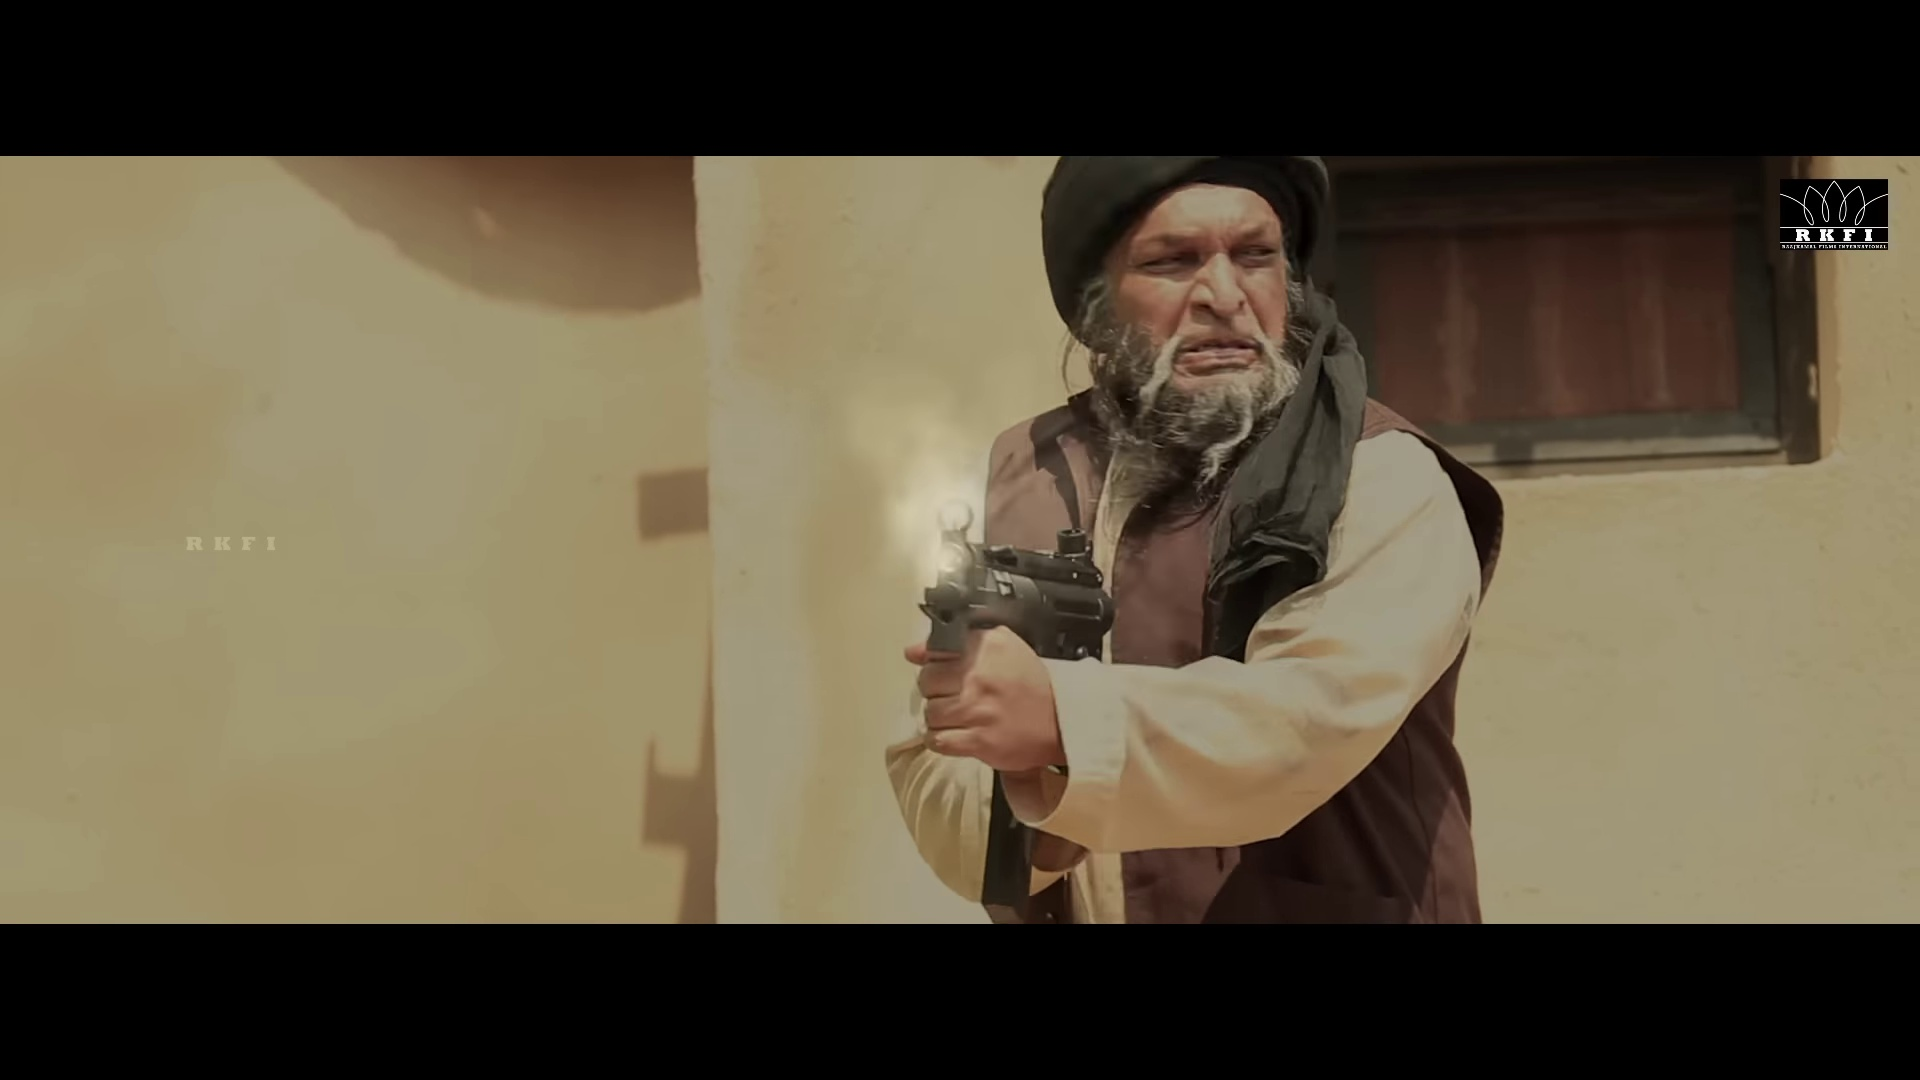gun: (898, 506, 1125, 916)
p_w_gun: (887, 153, 1503, 926)
